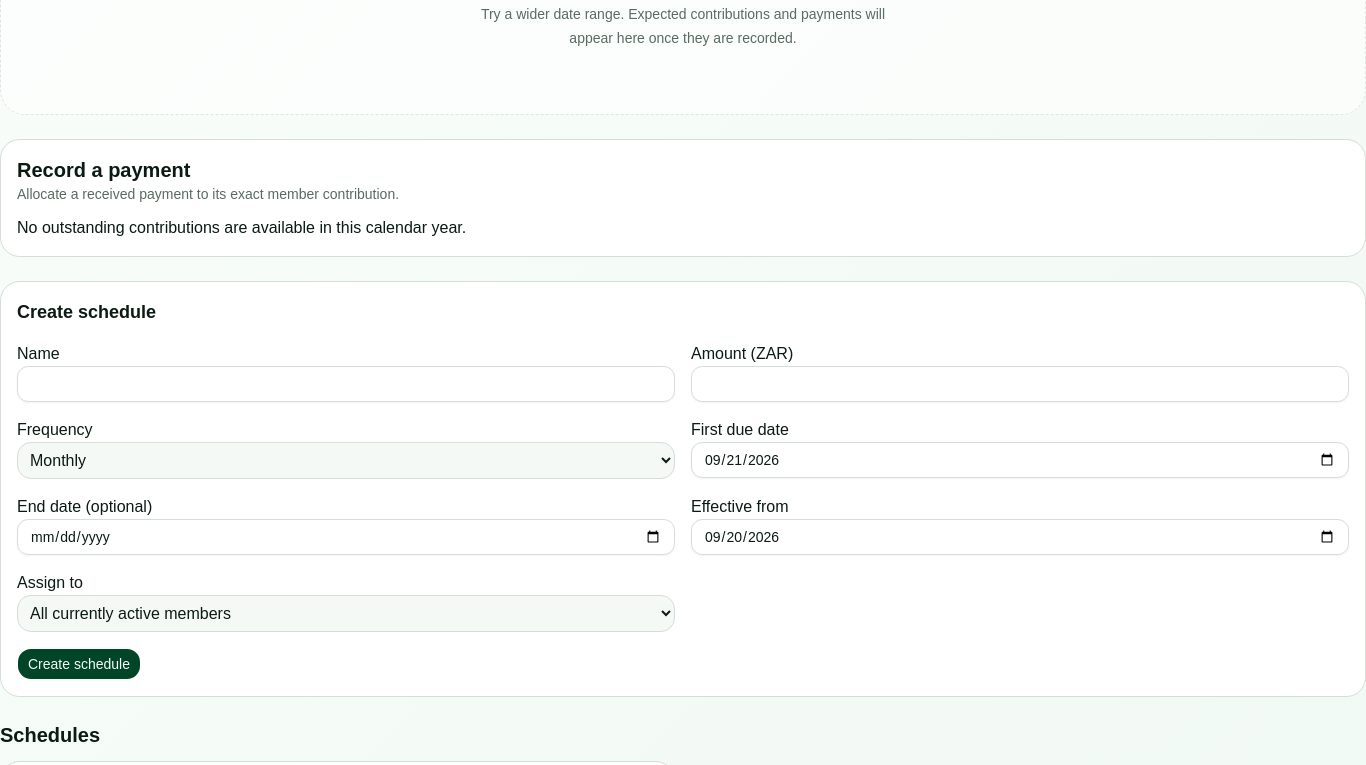
Test: reports API failures and never reports a save
(page scrolled)
Type "Failed schedule" into the field labelled "Name". click: (346, 384)
box: [17,366,675,402]
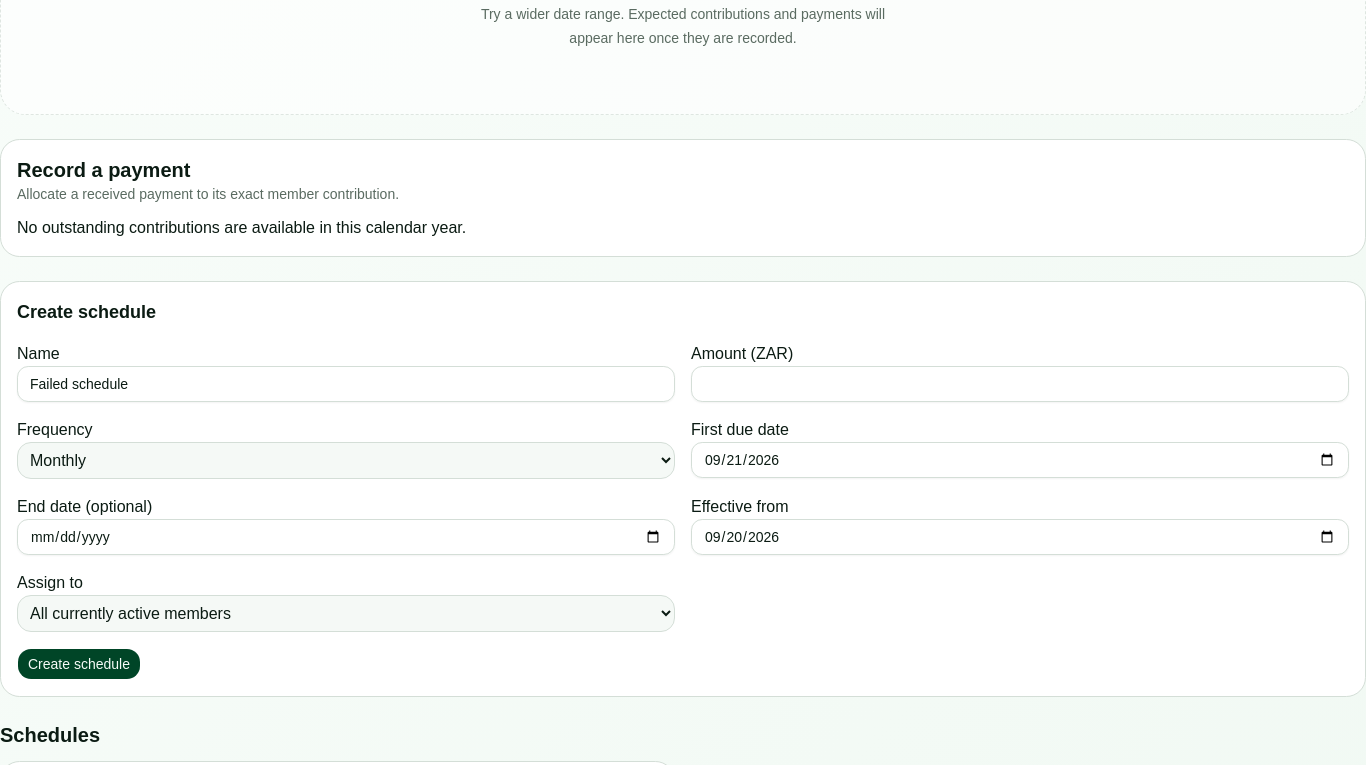
Type "10" into the number field labelled "Amount (ZAR)". click: (1020, 384)
box: [691,366,1349,402]
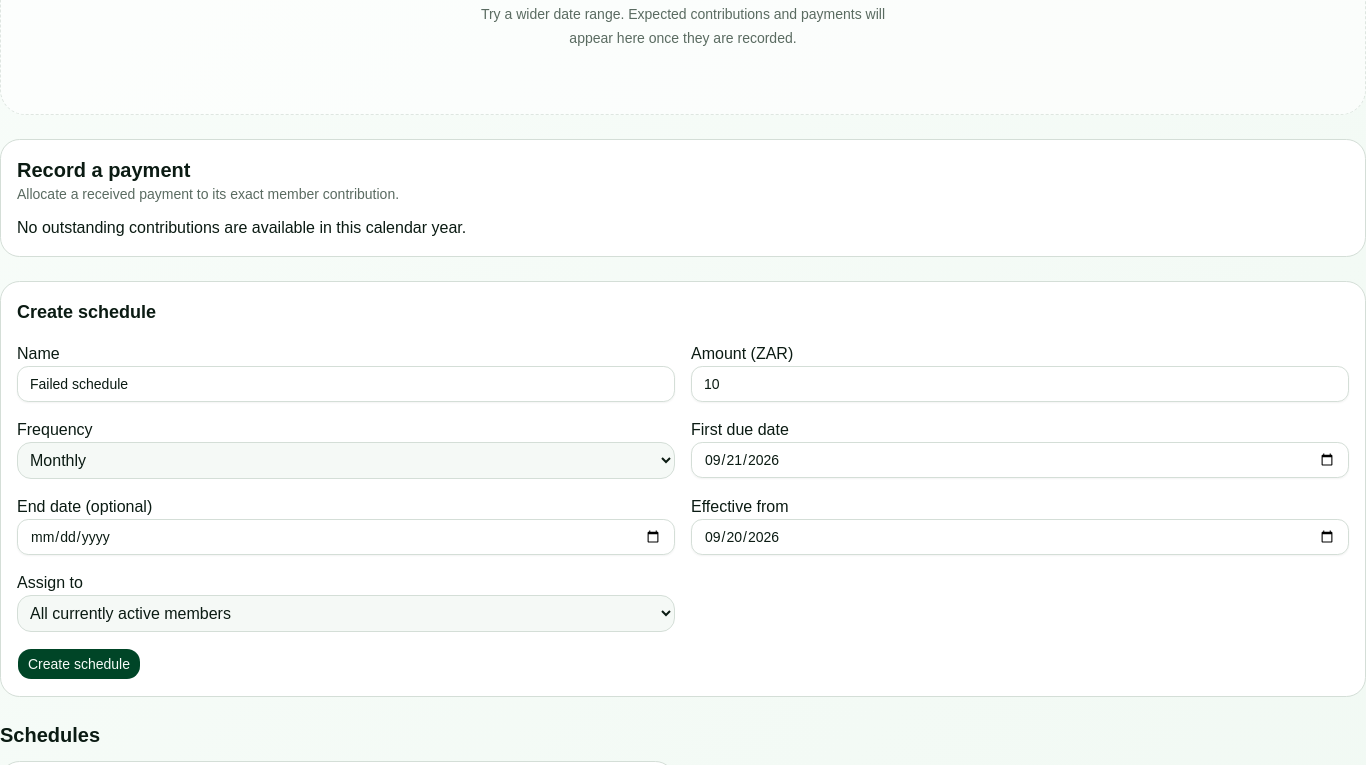
Click the button "Create schedule". click: (79, 664)
box: [17,648,141,680]
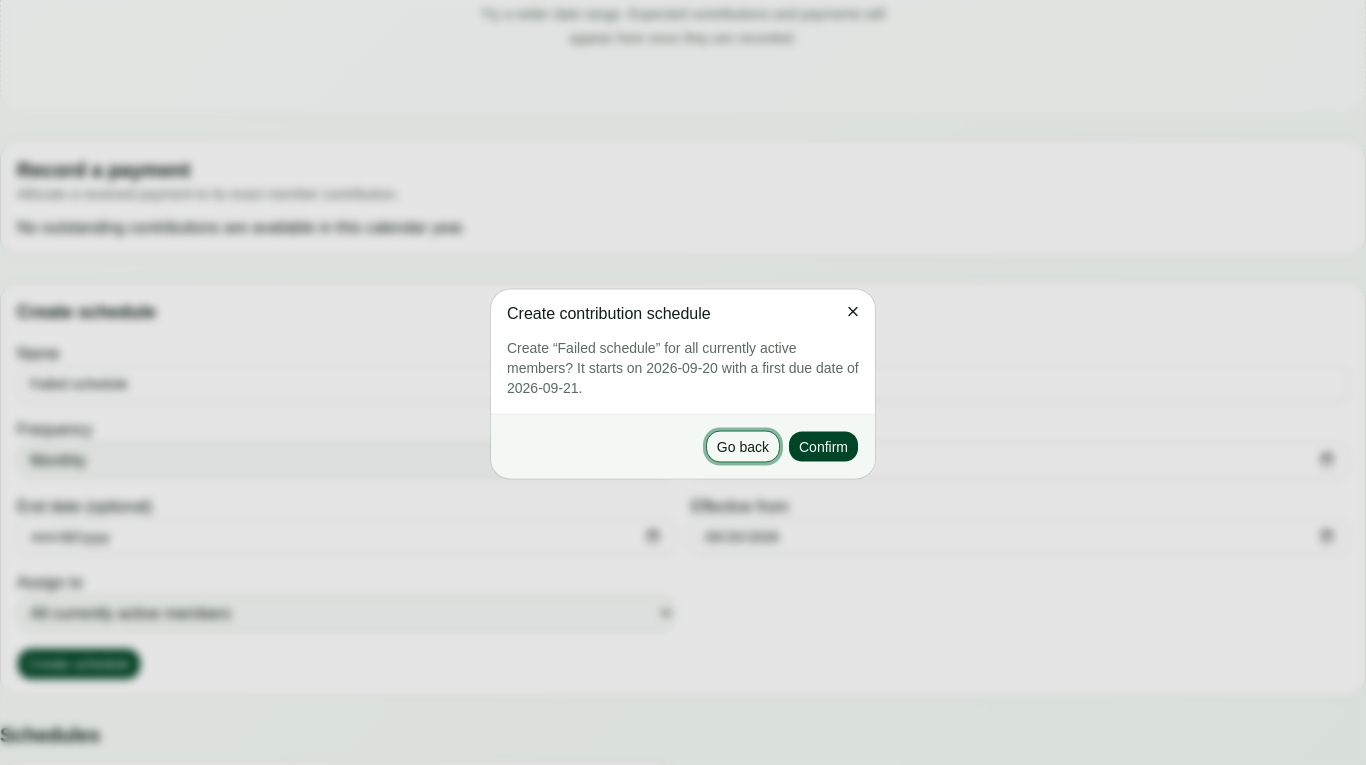
Click the button "Confirm". click: (824, 446)
box: [788,430,859,462]
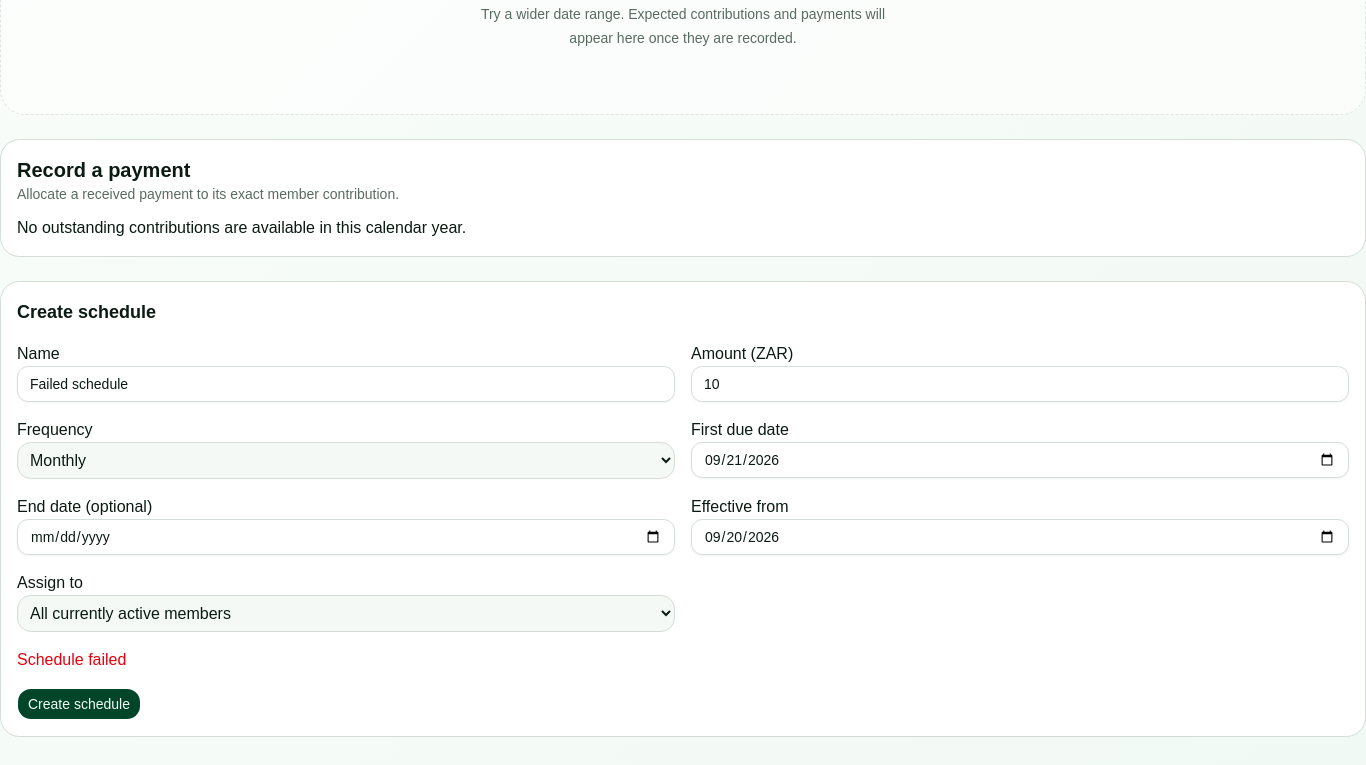
Expected: the message reads "Schedule failed", [17,651,126,668]
